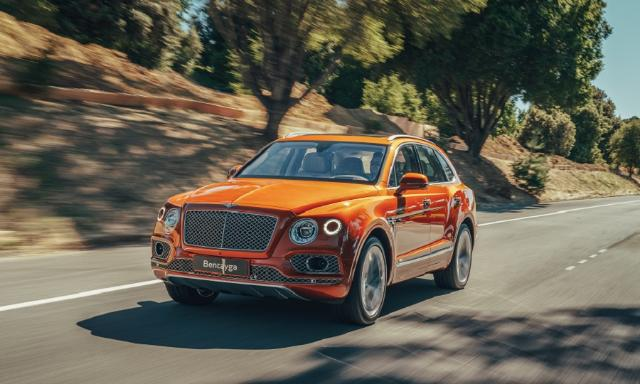bentley: (150, 133, 477, 325)
